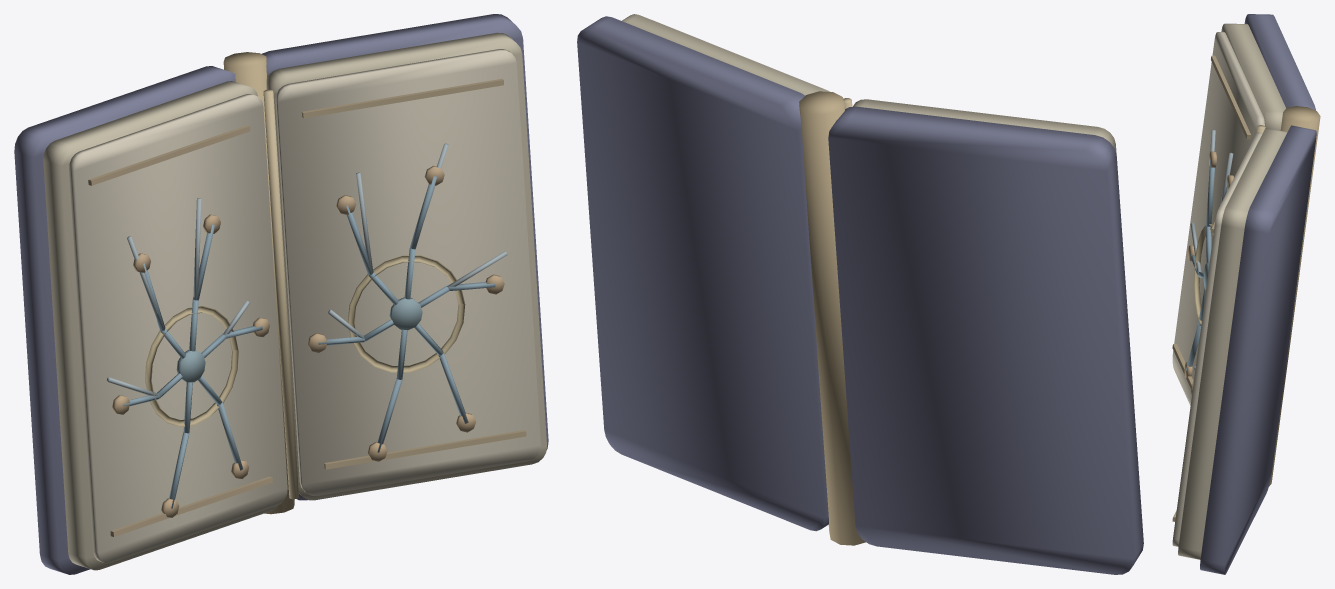
Rendered from ART-49.glb.
3 renders of one model, left to right at view 1: azimuth 30°, elevation 25°; view 2: azimuth 150°, elevation 25°; view 3: azimuth 270°, elevation 25°, orthographic. The views are drawn at different scales.
Parts seen in each view (by area): view 1: world; view 2: world; view 3: world.
Boxes of the visible parts, left/top/right/bottom form: world: left=14, top=14, right=548, bottom=574; world: left=577, top=14, right=1143, bottom=574; world: left=1172, top=14, right=1320, bottom=574.
Bounding box in the file's own units: 2 × 1.65 × 0.5967.
